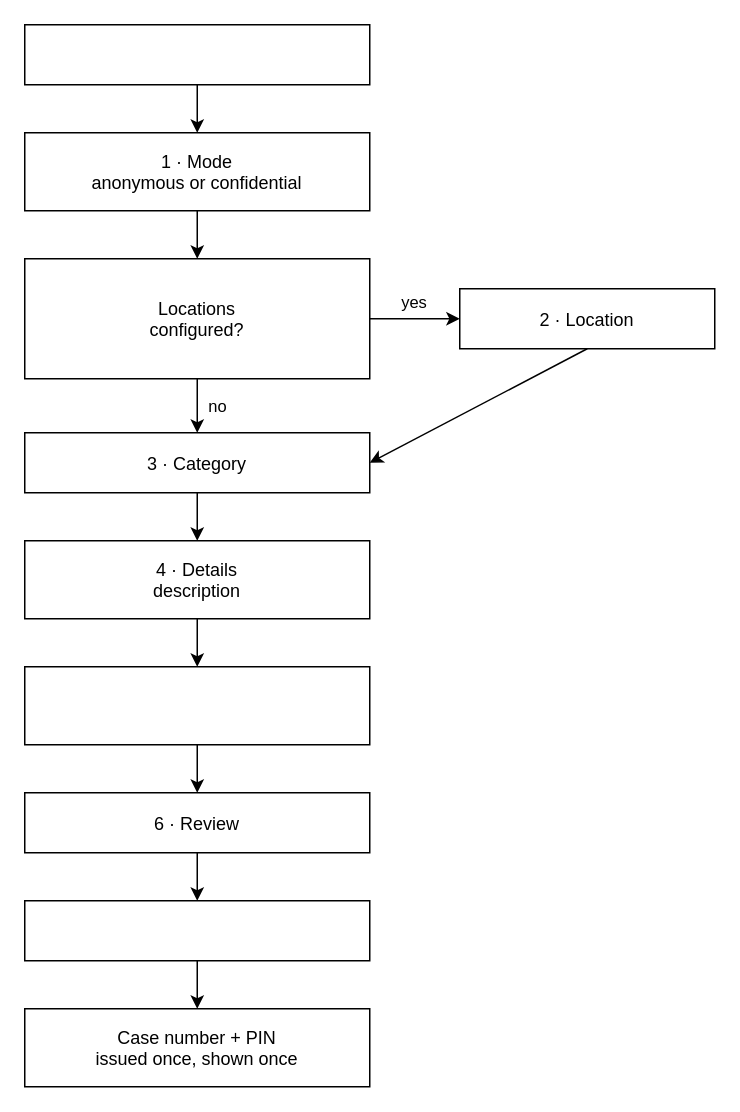
This 740x1112 diagram has some shape labels left out. The shapes that lost their labels are listed below. From the top down, each one's centre as x and y in pixels, then its label:
point (196, 54): Start a report
point (196, 705): 5 · Files attachments, optional
point (196, 930): Submit
